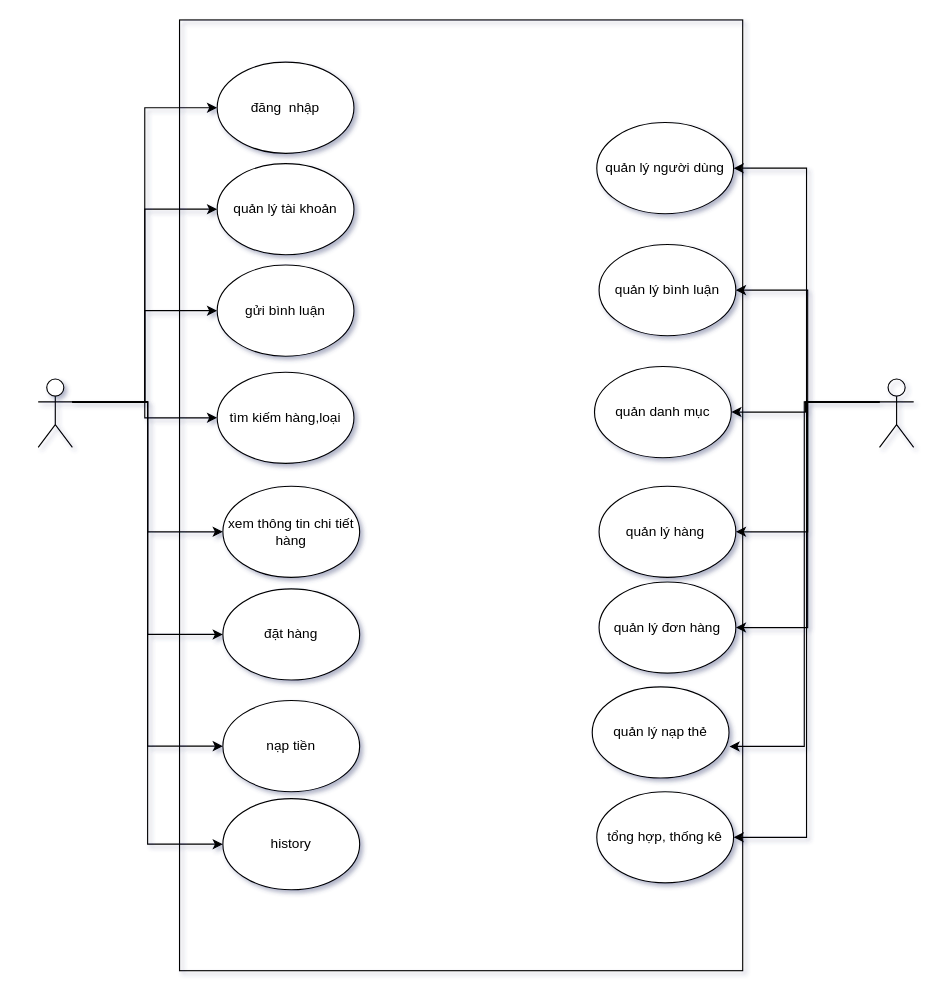
Some shapes in this 942 by 998 pixel diagram are drawn without their labels. Here are the shapes that lost their labels. From the top down, the centre of each, then its label:
pixel 54 412: khách hàng
pixel 896 412: admin
